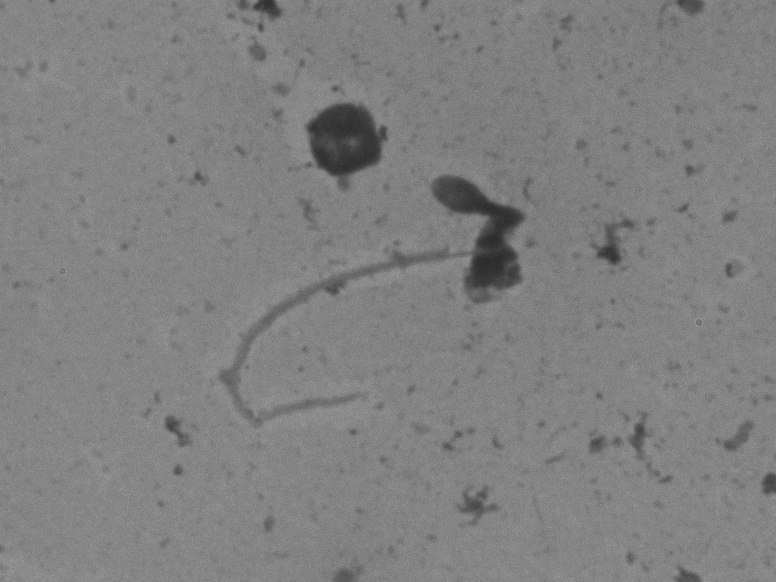Abnormal: (209, 151, 564, 461)
